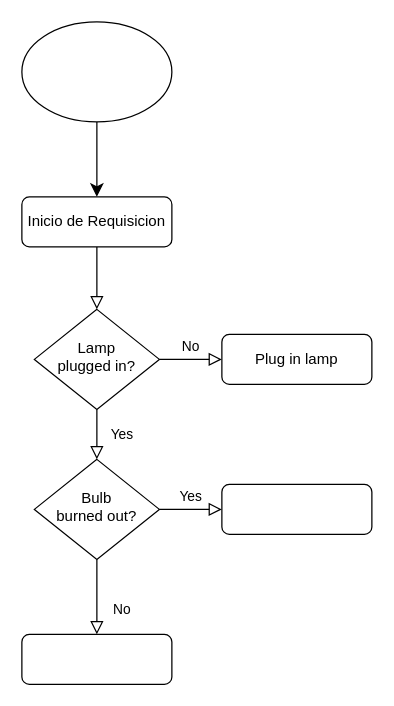
The diagram is 394 pixels wide and 706 high, and some of its shapes have lost their labels. Each missing label, with the box of its shape:
Repair Lamp: (21, 633, 172, 684)
Replace Bulb: (221, 483, 372, 534)
